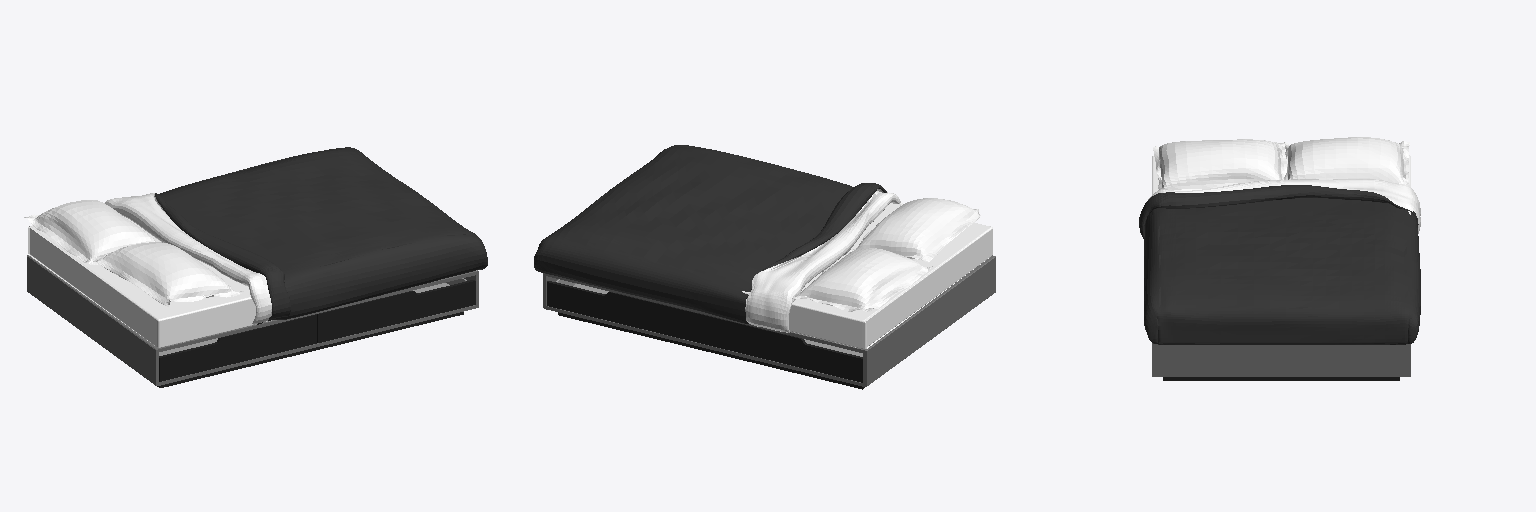
The model's file is mandal_bed_1_obj0_object.obj.
3 views of the same model, side by side, from view 1: azimuth 30°, elevation 25°; view 2: azimuth 150°, elevation 25°; view 3: azimuth 270°, elevation 25° (orthographic).
Parts seen in each view (by area): view 1: Mesh45 Y1 marylin_3d_1_1 Model, Mesh1 Group1 Model, Mesh44 T1 marylin_3d_1_1 Model, Mesh33 Component_7_1 Component_18_1 Model, Mesh43 R1 marylin_3d_1_1 Model, Mesh11 Component_16_3 Group8 Component_18_1 Model, Mesh13 Component_16_4 Group9 Component_18_1 Model, Mesh41 Group11 marylin_3d_1_1 Model, Mesh37 Component_8_2 Component_18_1 Model, Mesh35 Component_13_2 Component_18_1 Model, Mesh14 Group10 Component_18_1 Model; view 2: Mesh45 Y1 marylin_3d_1_1 Model, Mesh1 Group1 Model, Mesh41 Group11 marylin_3d_1_1 Model, Mesh43 R1 marylin_3d_1_1 Model, Mesh33 Component_7_1 Component_18_1 Model, Mesh44 T1 marylin_3d_1_1 Model, Mesh6 Component_16_2 Group4 Component_18_1 Model, Mesh4 Component_16_1 Group3 Component_18_1 Model, Mesh34 Component_8_1 Component_18_1 Model, Mesh8 Group6 Component_18_1 Model, Mesh32 Component_13_1 Component_18_1 Model; view 3: Mesh45 Y1 marylin_3d_1_1 Model, Mesh40 Component_7_2 Component_18_1 Model, Mesh44 T1 marylin_3d_1_1 Model, Mesh43 R1 marylin_3d_1_1 Model, Mesh41 Group11 marylin_3d_1_1 Model, Mesh7 Group5 Component_18_1 Model.
Boxes of the visible parts, x1,y1,x2,y2 form: Mesh45 Y1 marylin_3d_1_1 Model: [155, 147, 487, 324]; Mesh1 Group1 Model: [28, 216, 477, 347]; Mesh44 T1 marylin_3d_1_1 Model: [92, 242, 243, 306]; Mesh33 Component_7_1 Component_18_1 Model: [27, 256, 158, 385]; Mesh43 R1 marylin_3d_1_1 Model: [24, 200, 155, 264]; Mesh11 Component_16_3 Group8 Component_18_1 Model: [317, 280, 475, 342]; Mesh13 Component_16_4 Group9 Component_18_1 Model: [159, 314, 316, 381]; Mesh41 Group11 marylin_3d_1_1 Model: [105, 193, 271, 324]; Mesh37 Component_8_2 Component_18_1 Model: [157, 305, 478, 385]; Mesh35 Component_13_2 Component_18_1 Model: [149, 271, 478, 351]; Mesh14 Group10 Component_18_1 Model: [166, 313, 457, 386]; Mesh45 Y1 marylin_3d_1_1 Model: [534, 145, 886, 323]; Mesh1 Group1 Model: [742, 203, 992, 348]; Mesh41 Group11 marylin_3d_1_1 Model: [745, 189, 900, 332]; Mesh43 R1 marylin_3d_1_1 Model: [792, 248, 932, 311]; Mesh33 Component_7_1 Component_18_1 Model: [863, 257, 995, 386]; Mesh44 T1 marylin_3d_1_1 Model: [847, 198, 980, 262]; Mesh6 Component_16_2 Group4 Component_18_1 Model: [705, 315, 862, 382]; Mesh4 Component_16_1 Group3 Component_18_1 Model: [547, 281, 704, 343]; Mesh34 Component_8_1 Component_18_1 Model: [544, 306, 865, 386]; Mesh8 Group6 Component_18_1 Model: [565, 314, 855, 387]; Mesh32 Component_13_1 Component_18_1 Model: [544, 273, 873, 352]; Mesh45 Y1 marylin_3d_1_1 Model: [1139, 185, 1420, 344]; Mesh40 Component_7_2 Component_18_1 Model: [1152, 343, 1410, 376]; Mesh44 T1 marylin_3d_1_1 Model: [1153, 139, 1286, 190]; Mesh43 R1 marylin_3d_1_1 Model: [1283, 137, 1409, 185]; Mesh41 Group11 marylin_3d_1_1 Model: [1148, 179, 1420, 233]; Mesh7 Group5 Component_18_1 Model: [1163, 377, 1399, 380].
Bounding box in the file's own units: 82.48 × 24.48 × 60.08.